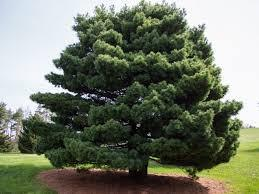tree: (23, 2, 246, 181)
